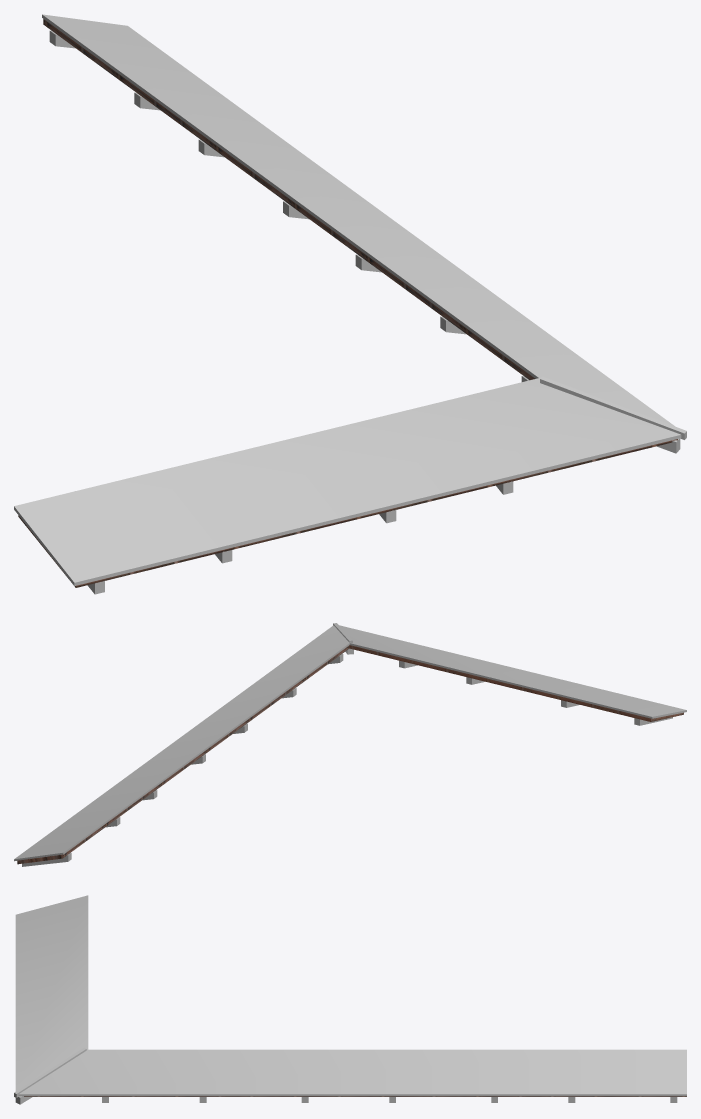
The model's file is ms_h01_sunshade5.fbx.
3 renders of one model, top to bottom at view 1: azimuth 30°, elevation 25°; view 2: azimuth 150°, elevation 25°; view 3: azimuth 270°, elevation 25°, orthographic. The views are drawn at different scales.
Visible parts, largest first — view 1: ms_h01_sunshade5; view 2: ms_h01_sunshade5; view 3: ms_h01_sunshade5.
Part boxes in pixels (<box>): ms_h01_sunshade5: <box>14,14,686,594</box>; ms_h01_sunshade5: <box>14,623,686,866</box>; ms_h01_sunshade5: <box>14,895,686,1104</box>.
Size of the model in its own units: 672 by 55.69 by 1060.
